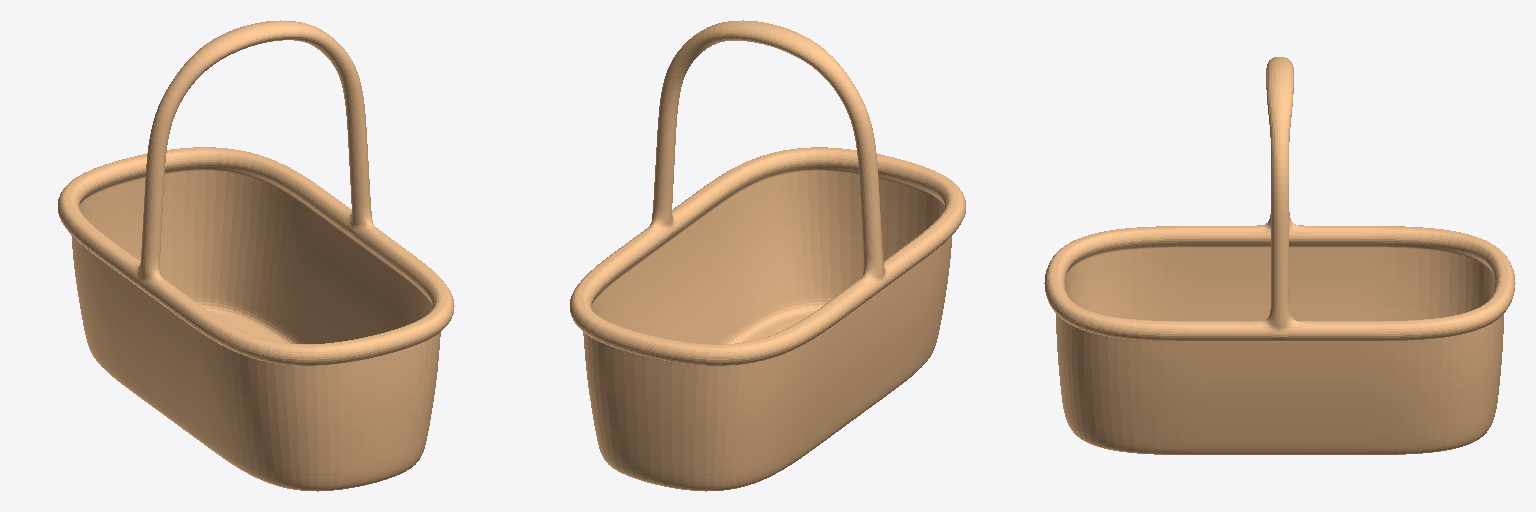
URDF robot description (box.urdf):
<?xml version="0.0" ?>
<robot name="box.urdf">
  <link name="baseLink">
    <contact>
      <lateral_friction value="1.0"/>
    </contact>
    <inertial>
      <origin rpy="0 0 0" xyz="0 0 0"/>
       <mass value=".0"/>
       <inertia ixx="1" ixy="0" ixz="0" iyy="1" iyz="0" izz="1"/>
    </inertial>
    <visual>
      <origin rpy="0 0 0" xyz="0 0 0"/>
      <geometry>
		<mesh filename="boite/osier.obj" scale=".03 .03 .03"/>
      </geometry>
       <material name="white">
        <color rgba="1 0.8 0.6 1"/>
      </material>
    </visual>
    <collision>
      <origin rpy="0 0 0" xyz="0 0 0"/>
      <geometry>
	 	<mesh filename="boite/osier.obj" scale=".03 .03 .03"/>
      </geometry>
    </collision>
  </link>
</robot>

--- Render facts (derived) ---
Views: 3 orthographic renders of the robot side by side, from view 1: azimuth 30°, elevation 25°; view 2: azimuth 150°, elevation 25°; view 3: azimuth 270°, elevation 25°.
Model box.urdf with 1 links and 0 joints (none), rooted at baseLink, posed every joint at zero.
Visible links, largest first — view 1: baseLink; view 2: baseLink; view 3: baseLink.
Boxes of the visible links, x1=… form: baseLink: x1=58, y1=20, x2=454, y2=491; baseLink: x1=570, y1=20, x2=965, y2=491; baseLink: x1=1044, y1=57, x2=1515, y2=454.
Size in the robot's own frame: 0.8647 by 1.64 by 1.35 metres.
1 mesh visuals loaded from 1 distinct referenced files (1 OBJ).